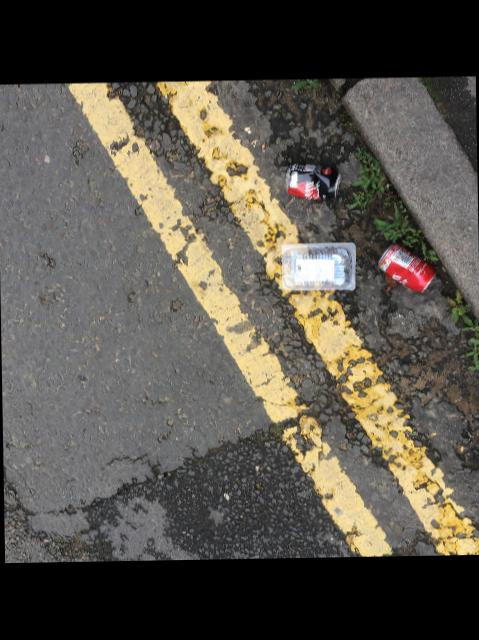metal: (377, 244, 433, 292), (283, 164, 338, 199)
plastic: (279, 243, 353, 290)
